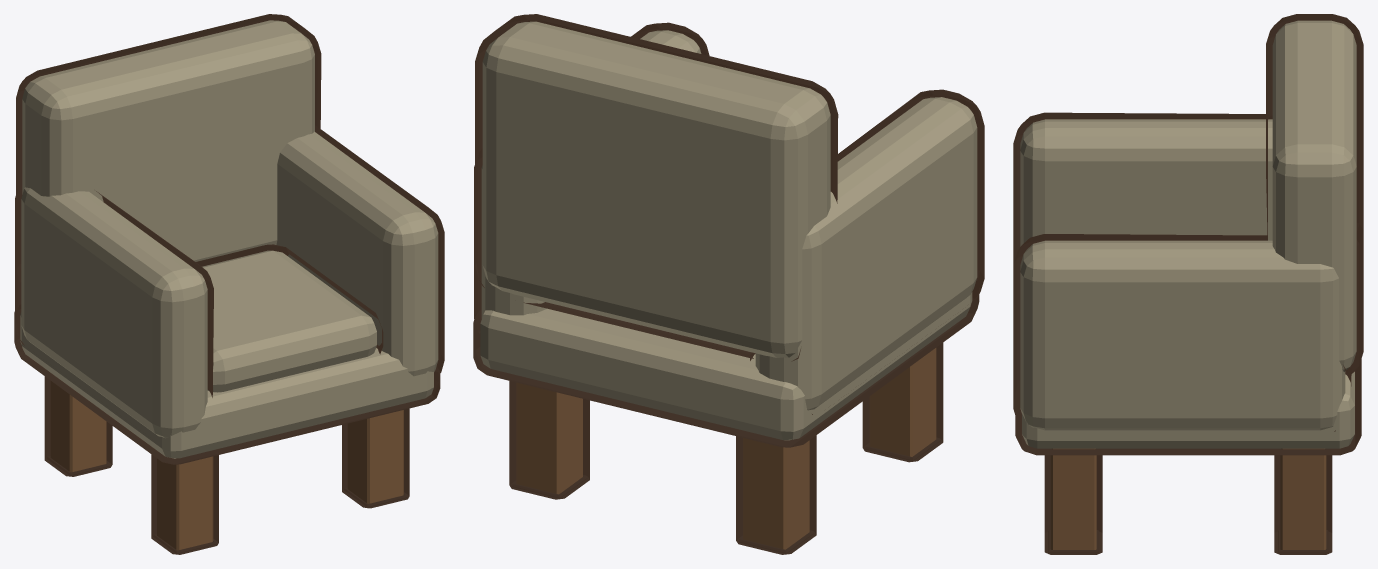
Rendered from library-seat.glb.
The picture shows the model from 3 angles, left to right: view 1: azimuth 30°, elevation 25°; view 2: azimuth 150°, elevation 25°; view 3: azimuth 270°, elevation 25°; orthographic projection. The views are drawn at different scales.
Parts seen in each view (by area): view 1: library-seat, library-seat-outline; view 2: library-seat, library-seat-outline; view 3: library-seat, library-seat-outline.
Part boxes in pixels (left/top/right/bottom): library-seat: left=20, top=20, right=438, bottom=550; library-seat-outline: left=14, top=14, right=444, bottom=554; library-seat: left=480, top=21, right=977, bottom=549; library-seat-outline: left=473, top=14, right=984, bottom=554; library-seat: left=1020, top=20, right=1356, bottom=549; library-seat-outline: left=1013, top=14, right=1363, bottom=554.
Size of the model in its own units: 0.9554 by 1.2 by 0.9154.
